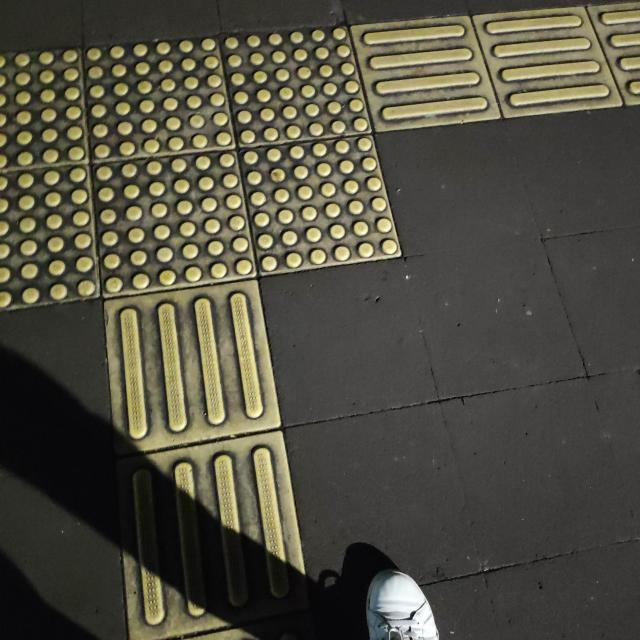kanan: (61, 0, 640, 423)
